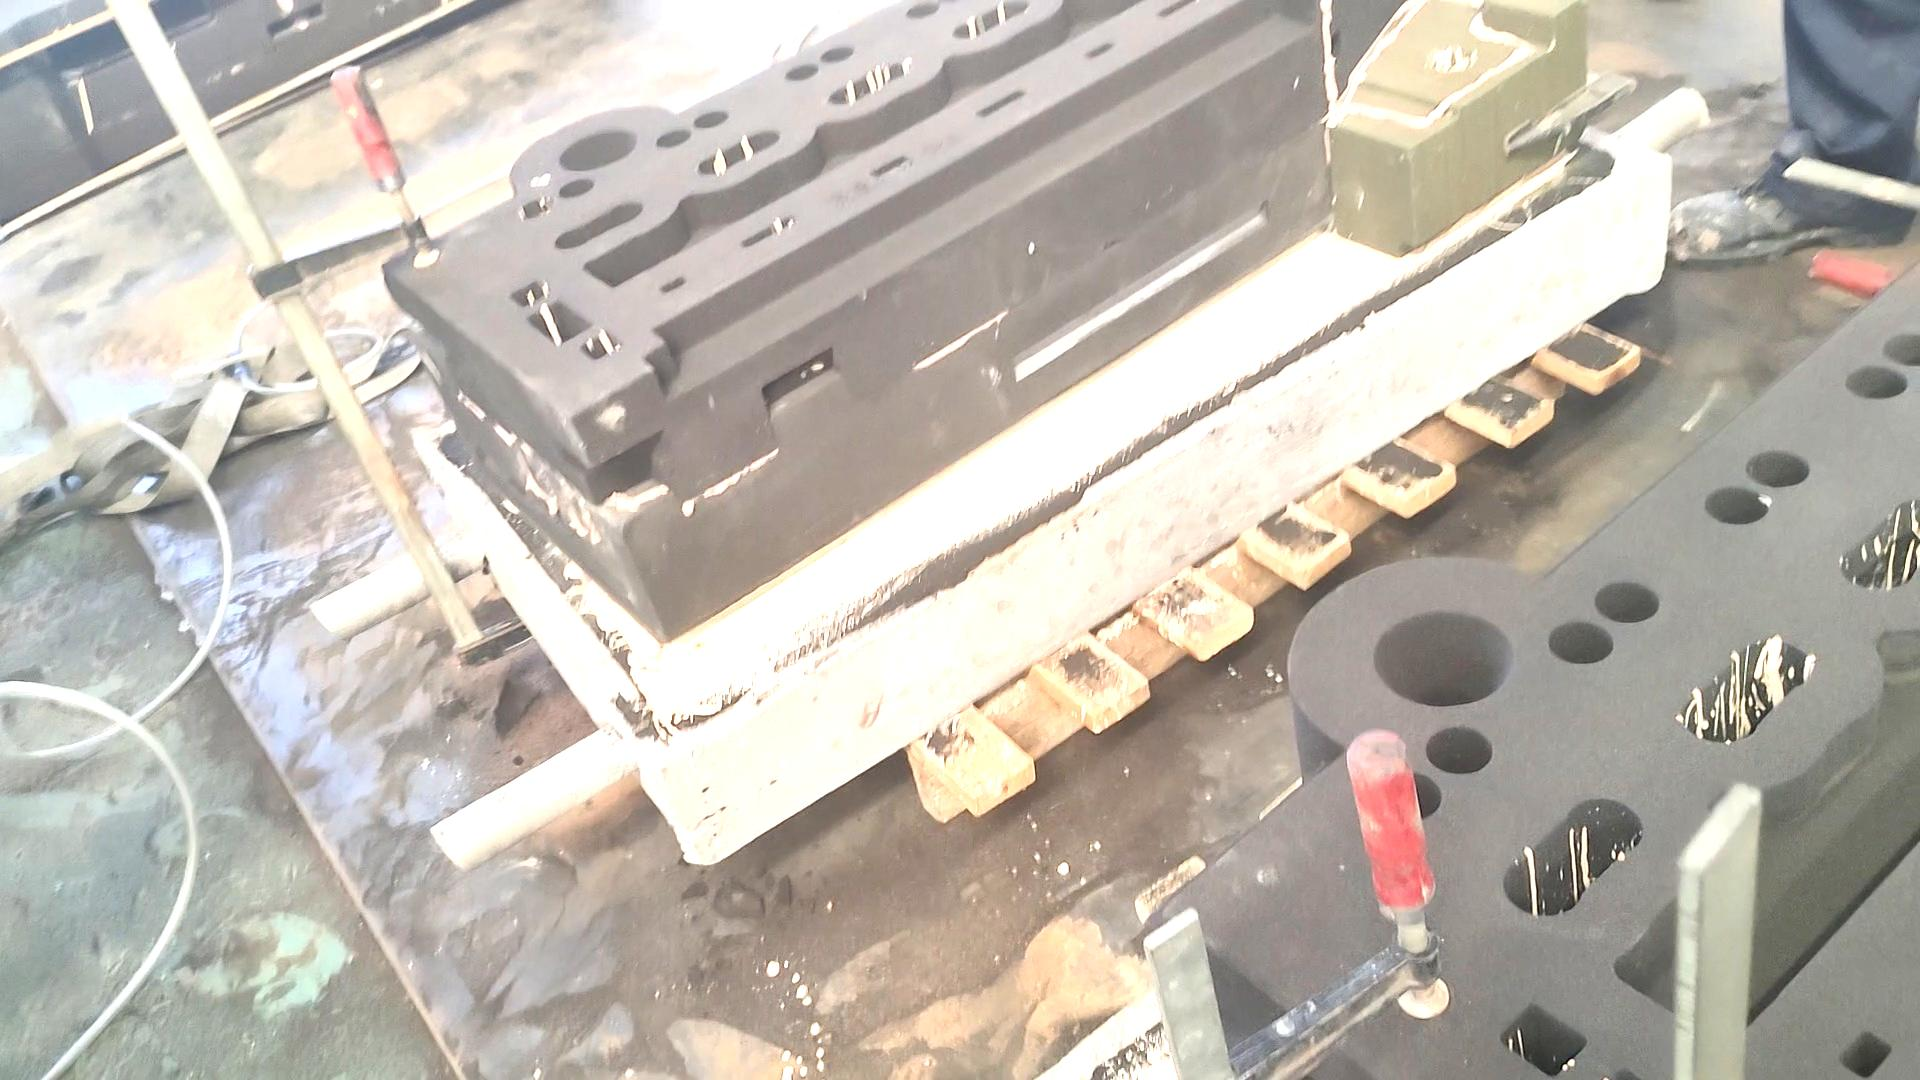pouring hole: (1374, 612, 1515, 705), (558, 129, 638, 171)
